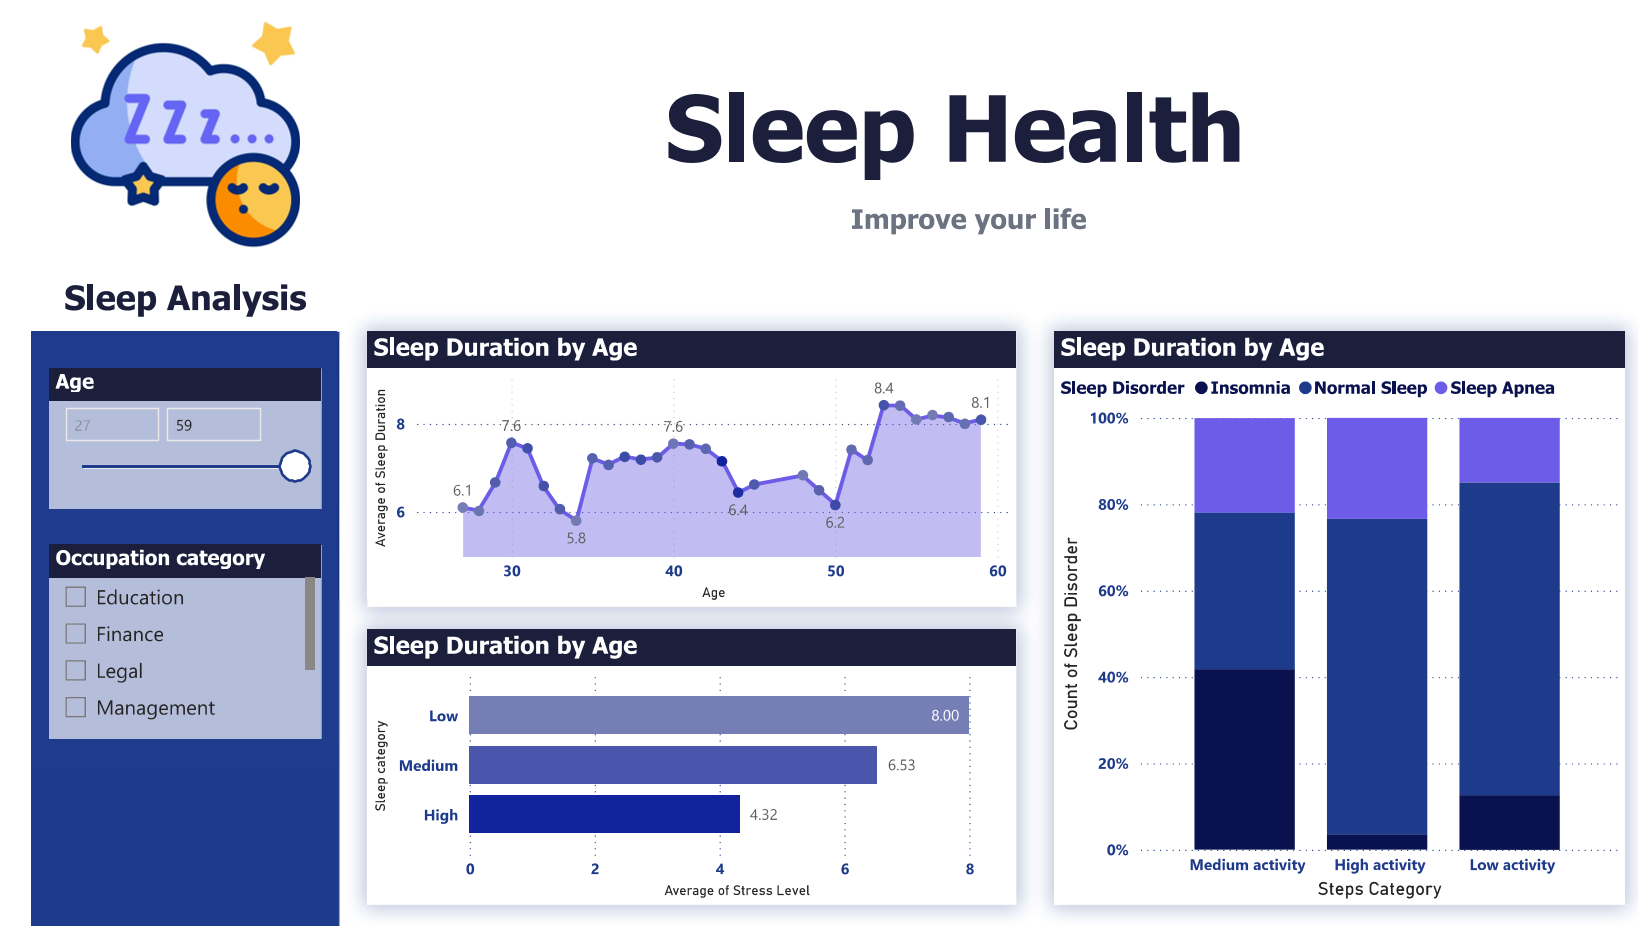

Layout of this report page (visuals, bound fields, positions):
{"tool":"powerbi","page":{"name":"Sleep Analysis","canvas":[1280,720],"ordinal":1},"visuals":[{"type":"shape","box":[0,251.1,242.9,469.3],"z":0},{"type":"image","box":[0,0,242.9,190.7],"z":1000},{"type":"textbox","box":[264.8,39.8,949.6,150.9],"z":2000},{"type":"textbox","box":[0,201.7,242.9,78.2],"z":3000},{"type":"lineChart","title":"Sleep Duration by Age","fields":{"Category":["clean_data.Age"],"Y":["Avg(clean_data.Sleep Duration)"]},"box":[264.8,251.1,511.8,216.8],"z":4000},{"type":"slicer","title":"Age","fields":{"Values":["clean_data.Age"]},"box":[13.7,279.9,215.4,111.1],"z":5000},{"type":"slicer","title":"Occupation category","fields":{"Values":["clean_data.Occupation category"]},"box":[13.7,418.5,215.4,153.7],"z":6000},{"type":"clusteredBarChart","title":"Sleep Duration by Age","fields":{"Category":["clean_data.Sleep category"],"Y":["Avg(clean_data.Stress Level)"]},"box":[264.8,485.8,511.8,216.8],"z":7000},{"type":"hundredPercentStackedColumnChart","title":"Sleep Duration by Age","fields":{"Category":["clean_data.Steps Category"],"Y":["CountNonNull(clean_data.Sleep Disorder)"],"Series":["clean_data.Sleep Disorder"]},"box":[806.9,251.1,450.1,451.5],"z":8000}]}

Visuals, with their boxes in screenshot pixels (x1, y1, x2, y2), scaled from the page's 1280x720 canvas onto the 1638x934 screenshot:
shape: BBox(0, 326, 311, 933)
image: BBox(0, 0, 311, 247)
textbox: BBox(339, 52, 1554, 247)
textbox: BBox(0, 262, 311, 363)
"Sleep Duration by Age" lineChart: BBox(339, 326, 994, 607)
"Age" slicer: BBox(18, 363, 293, 507)
"Occupation category" slicer: BBox(18, 543, 293, 742)
"Sleep Duration by Age" clusteredBarChart: BBox(339, 630, 994, 911)
"Sleep Duration by Age" hundredPercentStackedColumnChart: BBox(1033, 326, 1609, 911)
